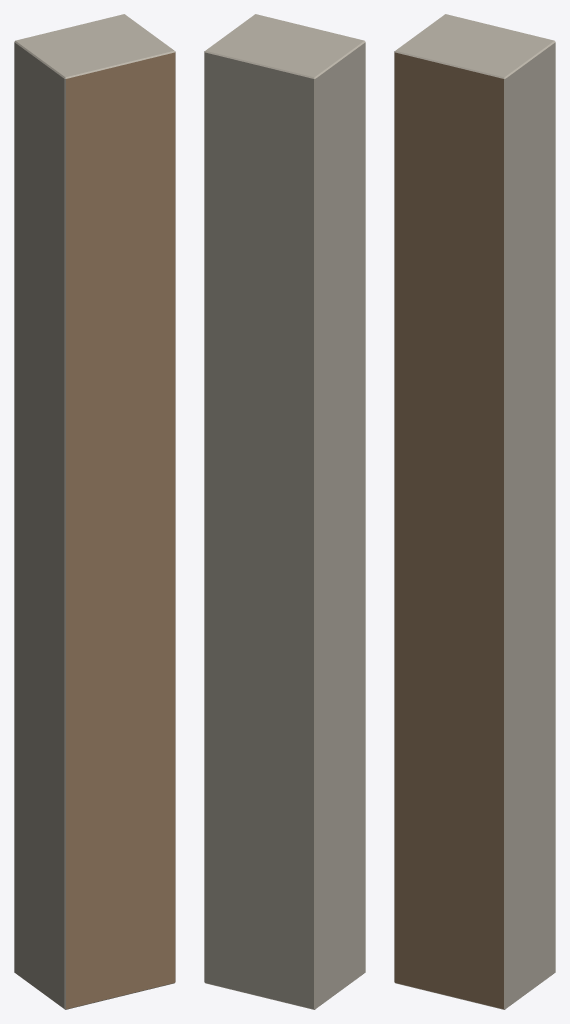
File: arch_wall_ext_w50_h400.glb
The picture shows the model from 3 angles, left to right: view 1: azimuth 30°, elevation 25°; view 2: azimuth 150°, elevation 25°; view 3: azimuth 330°, elevation 25°; orthographic projection.
Parts seen in each view (by area): view 1: Wall; view 2: Wall; view 3: Wall.
Boxes of the visible parts, <box> form: Wall: <box>14,14,175,1009</box>; Wall: <box>204,14,365,1009</box>; Wall: <box>394,14,555,1009</box>.
Size of what is drawn, in the model's own units: 0.5 by 4 by 0.4.
